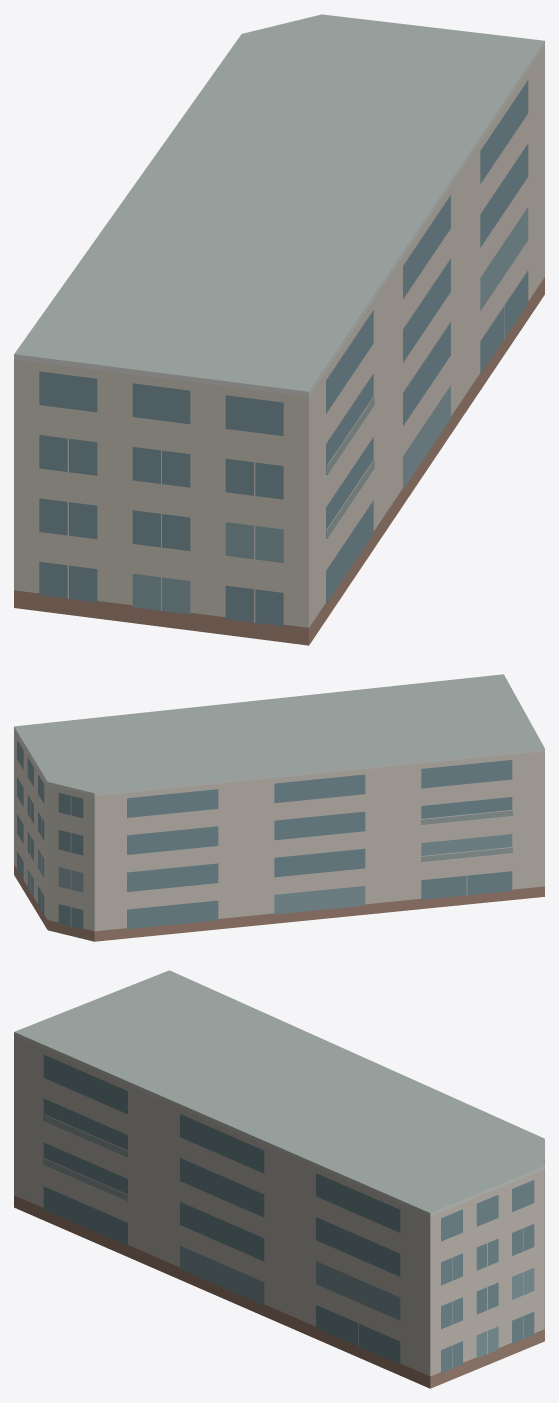
The model's file is survey-upis-32834748.glb.
3 views of the same model, one above another, from view 1: azimuth 30°, elevation 25°; view 2: azimuth 150°, elevation 25°; view 3: azimuth 270°, elevation 25° (orthographic). The views are drawn at different scales.
Parts seen in each view (by area): view 1: survey-upis-32834748.tmp; view 2: survey-upis-32834748.tmp; view 3: survey-upis-32834748.tmp.
Part boxes in pixels (x1,y1,x2,y2): survey-upis-32834748.tmp: (14,14,544,645); survey-upis-32834748.tmp: (14,674,544,941); survey-upis-32834748.tmp: (14,970,544,1388).
Bounding box in the file's own units: 36.19 × 12.2 × 33.43.
